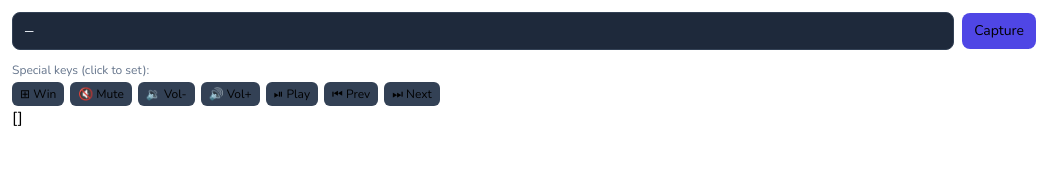
Scenario: KeyCapture › captura uma tecla simples e reporta o combo, encerrando a captura
Click the button "Capture": (999, 31) [962,13,1036,49]
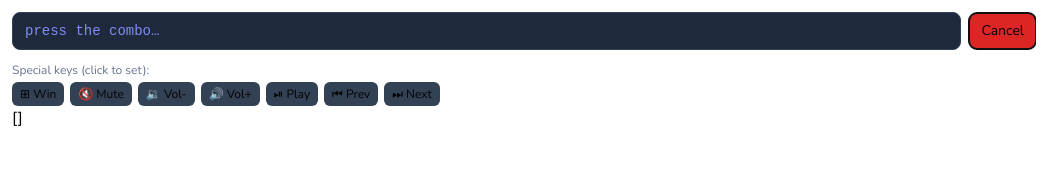
Press a
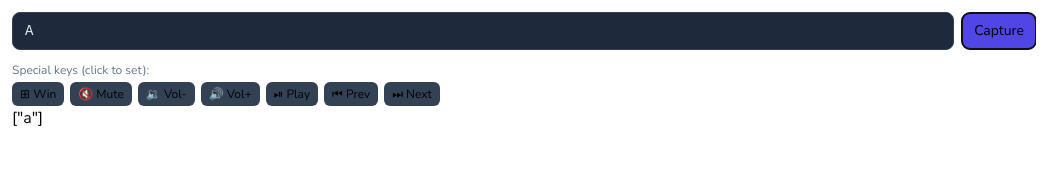
Expected: the button "Capture" is shown, [962,13,1036,49]
